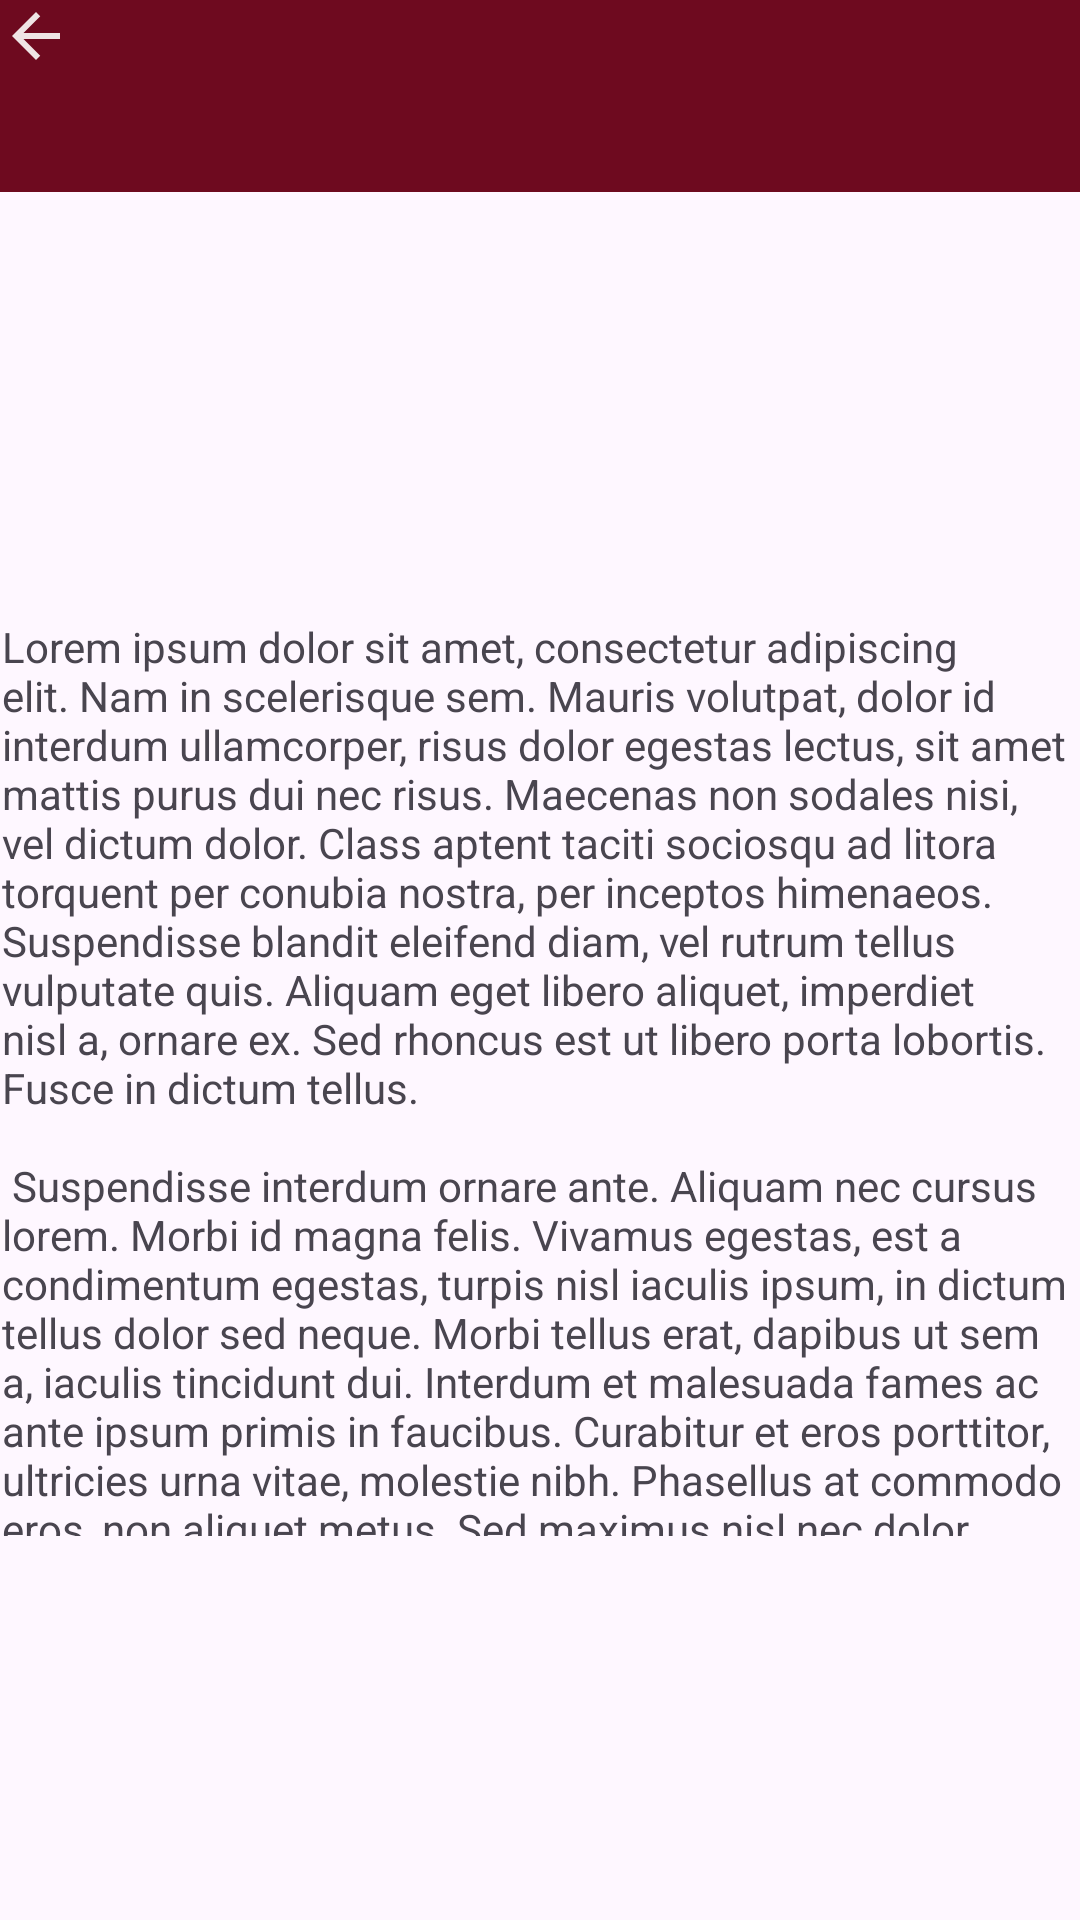

Screen size 1080×1920. Icon name, then its center in pixels as (x,y):
flecha izquierda: (36,36)
